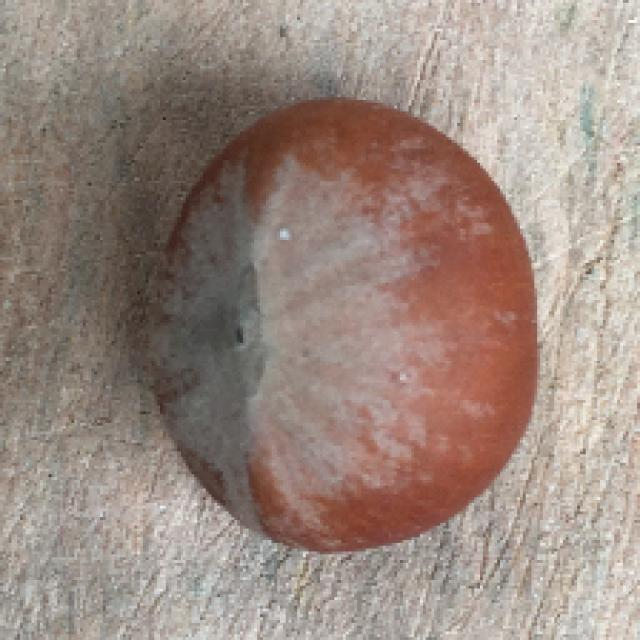qualityHazelnut: (121, 84, 547, 564)
